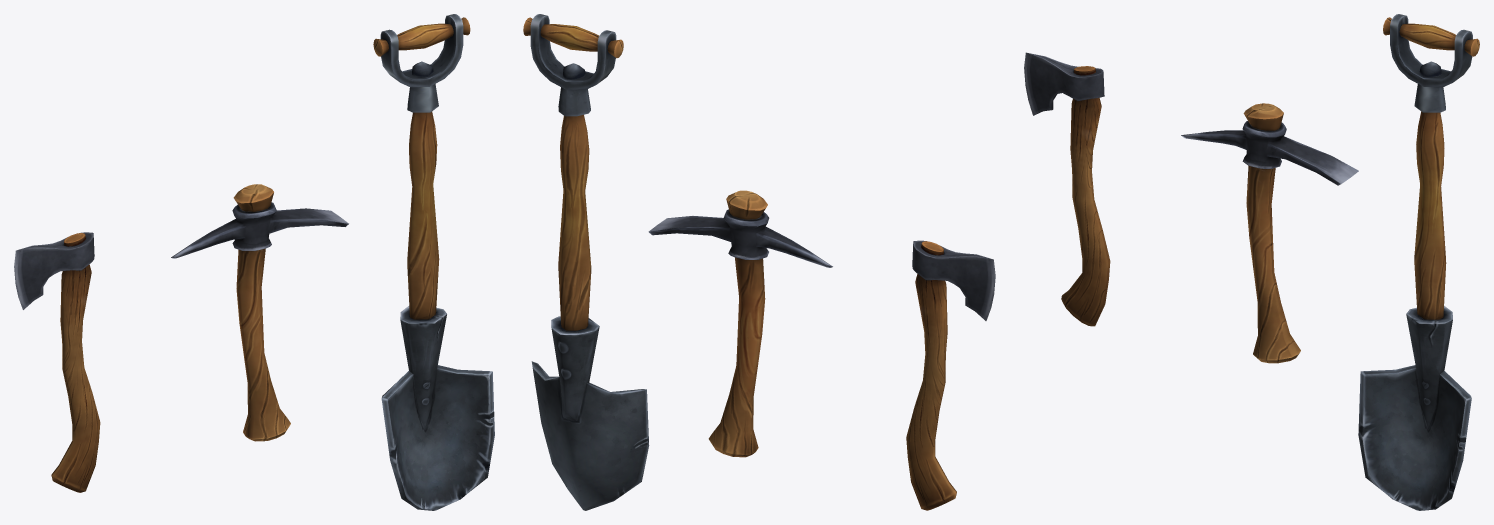
The model's file is tools_pack.fbx.
3 views of the same model, side by side, from view 1: azimuth 30°, elevation 25°; view 2: azimuth 150°, elevation 25°; view 3: azimuth 330°, elevation 25° (orthographic). The views are drawn at different scales.
Visible parts, largest first — view 1: shovel, pickaxe, axe; view 2: shovel, pickaxe, axe; view 3: shovel, pickaxe, axe.
Boxes of the visible parts, box(x1,y1,x2,y2) form: shovel: box(373, 14, 494, 510); pickaxe: box(171, 184, 348, 441); axe: box(14, 232, 100, 492); shovel: box(523, 14, 649, 510); pickaxe: box(648, 190, 832, 457); axe: box(906, 240, 995, 510); shovel: box(1358, 14, 1479, 510); pickaxe: box(1181, 103, 1358, 363); axe: box(1024, 52, 1110, 326).
Bounding box in the file's own units: 124 × 123 × 16.75.
3 materials, 3 textured.
